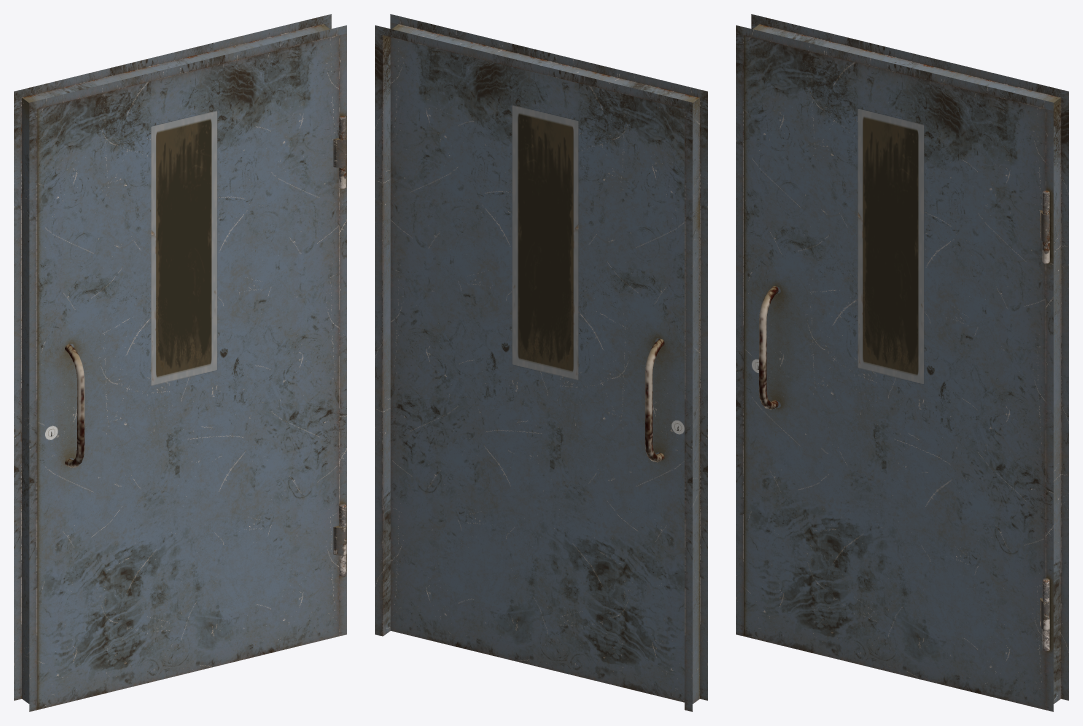
Rendered from DoorIndustrial01_2.FBX.
3 renders of one model, left to right at view 1: azimuth 30°, elevation 25°; view 2: azimuth 150°, elevation 25°; view 3: azimuth 330°, elevation 25°, orthographic.
Parts seen in each view (by area): view 1: Door, Border; view 2: Door, Border; view 3: Door, Border.
Boxes of the visible parts, x1,y1,x2,y2 form: Door: (37, 35, 346, 709); Border: (14, 14, 346, 711); Door: (390, 37, 699, 703); Border: (375, 14, 707, 711); Door: (744, 35, 1049, 709); Border: (736, 14, 1068, 711).
Bounding box in the file's own units: 120 × 220 × 23.72.
